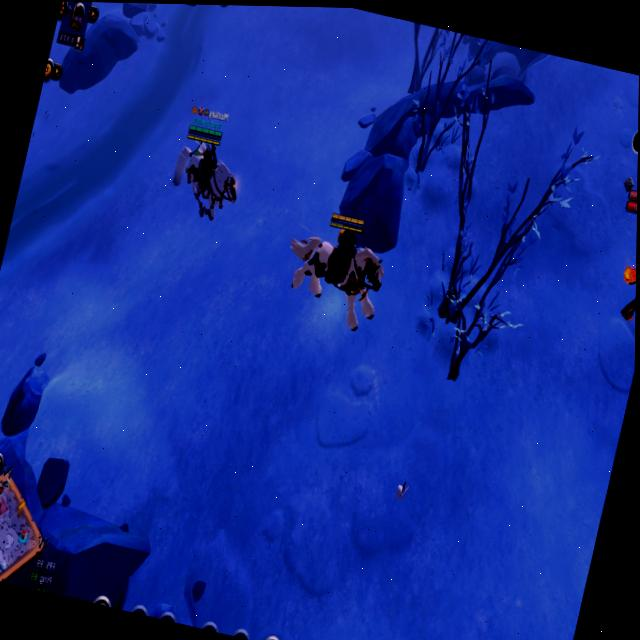red: (263, 192, 405, 358), (150, 91, 263, 241), (604, 172, 638, 331)
